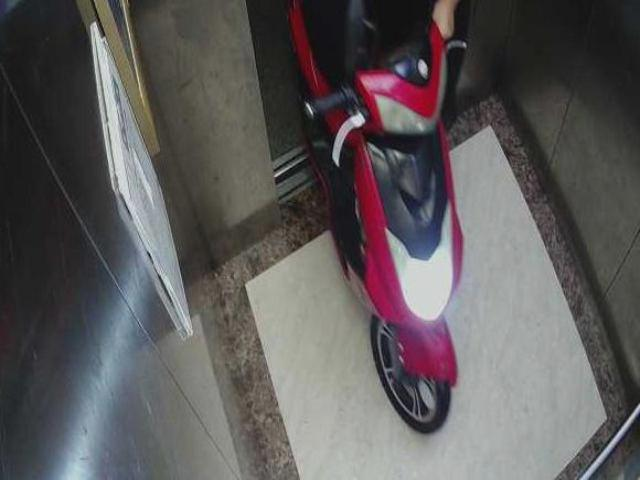emotor: (277, 4, 477, 436)
